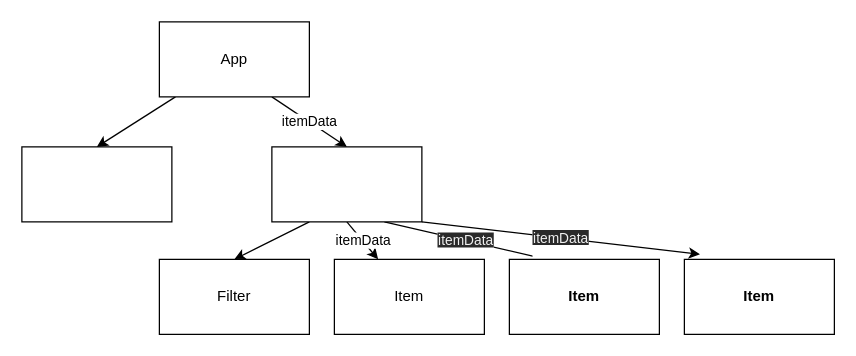
Some shapes in this 856 by 356 pixel diagram are drawn without their labels. Each missing label, with the centre of its shape:
"Header" belongs at point 96,184.
"ShoppingList" belongs at point 346,184.
